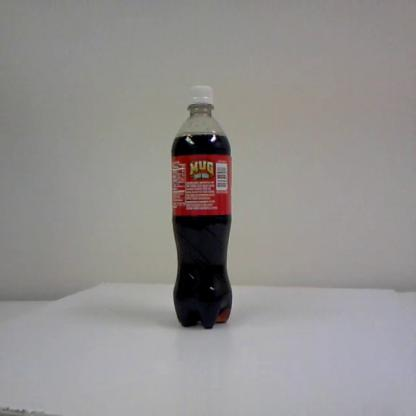bottle: (169, 81, 234, 331)
